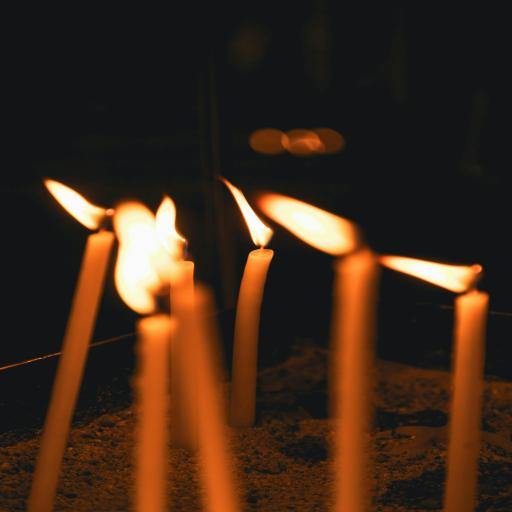candlelight: (263, 196, 403, 507), (26, 236, 112, 512), (216, 178, 278, 429), (128, 221, 182, 509), (168, 258, 221, 460), (445, 288, 489, 511), (217, 176, 276, 250), (155, 194, 186, 262)
